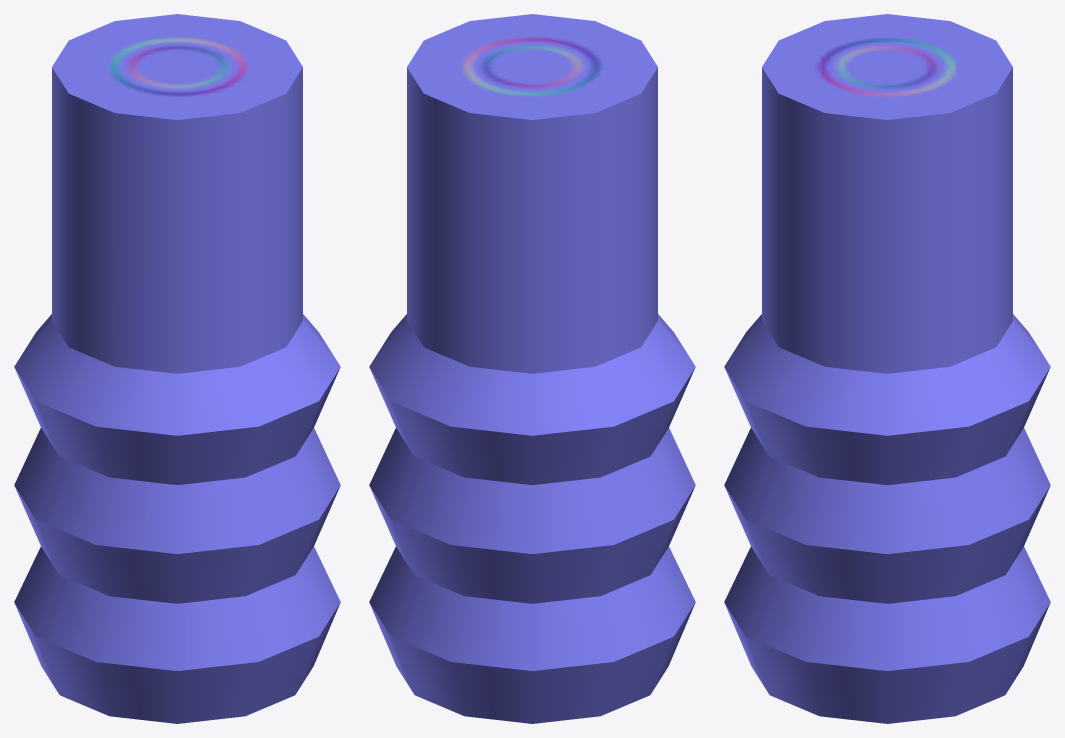
File: obj_road_signpost.fbx
The picture shows the model from 3 angles, left to right: view 1: azimuth 30°, elevation 25°; view 2: azimuth 150°, elevation 25°; view 3: azimuth 270°, elevation 25°; orthographic projection.
Parts seen in each view (by area): view 1: polySurface26; view 2: polySurface26; view 3: polySurface26.
Part boxes in pixels (left/top/right/bottom): polySurface26: left=14, top=14, right=340, bottom=723; polySurface26: left=369, top=14, right=695, bottom=723; polySurface26: left=724, top=14, right=1050, bottom=723.
Bounding box in the file's own units: 0.9878 × 2 × 0.9878.
